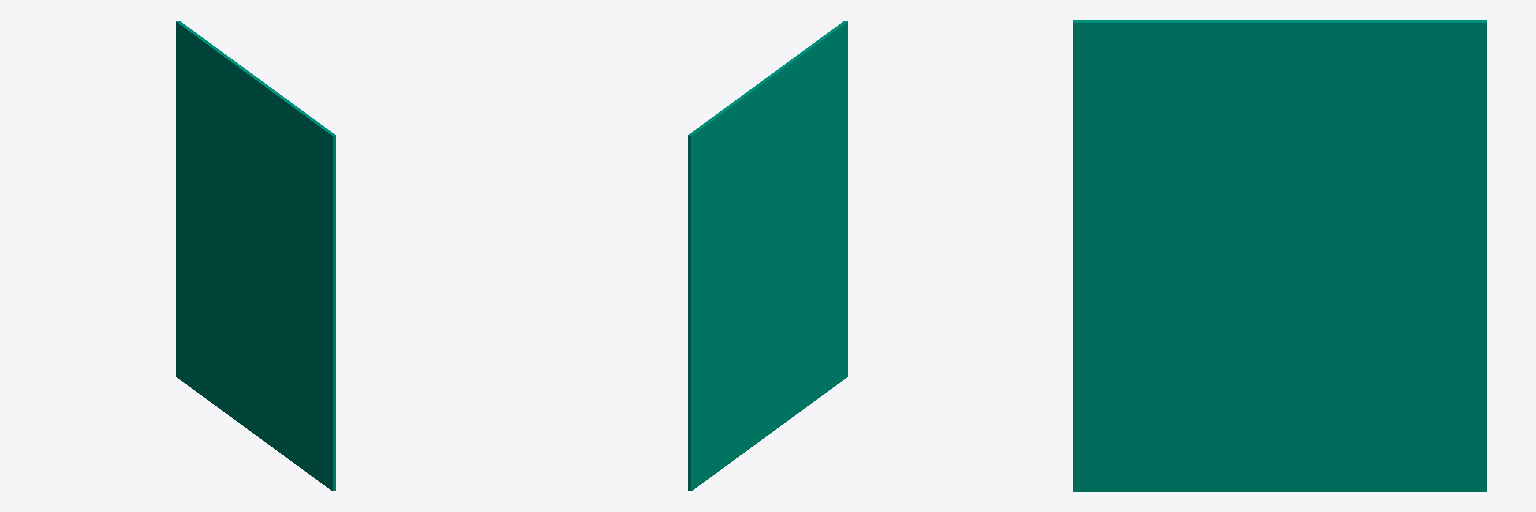
URDF robot description (surface_glas):
<?xml version="1.0" ?>
<robot name="surface_glas">
  <link name="surface_glas_link">
    <inertial>
      <origin rpy="0 0 0" xyz="0 0 0"/>
       <mass value="0.025"/>
       <inertia ixx="1" ixy="0" ixz="0" iyy="1" iyz="0" izz="1"/>
    </inertial>
    <visual>
      <origin rpy="0 0 0" xyz="0 0 0"/>
      <geometry>
				<mesh filename="Window.obj" scale="0.1 0.2 0.2"/>
      </geometry>
      <material name="lightorange_transparent">
        <color rgba="0.0 0.65 0.55 0.5"/>
        <specular rgb="0 0 1"/>
      </material>
    </visual>
    <collision>
      <origin rpy="0 0 0" xyz="0 0 0"/>
      <geometry>
				<mesh filename="Window.obj" scale="0.1 0.2 0.2"/>
      </geometry>
    </collision>
  </link>
</robot>

--- What the picture shows (computed from the rendered views, not written in the file) ---
3 views of the same robot in one strip: view 1: azimuth 30°, elevation 25°; view 2: azimuth 150°, elevation 25°; view 3: azimuth 270°, elevation 25° (orthographic).
Model surface_glas with 1 links and 0 joints (none), rooted at surface_glas_link, posed every joint at zero.
Visible links, largest first — view 1: surface_glas_link; view 2: surface_glas_link; view 3: surface_glas_link.
Boxes of the visible links, x1=… form: surface_glas_link: x1=176, y1=21, x2=335, y2=490; surface_glas_link: x1=688, y1=21, x2=847, y2=490; surface_glas_link: x1=1073, y1=20, x2=1486, y2=491.
Bounding box of the posed robot: 0.002 × 0.16 × 0.2 m (x, y, z).
1 mesh visuals loaded from 1 distinct referenced files (1 OBJ).